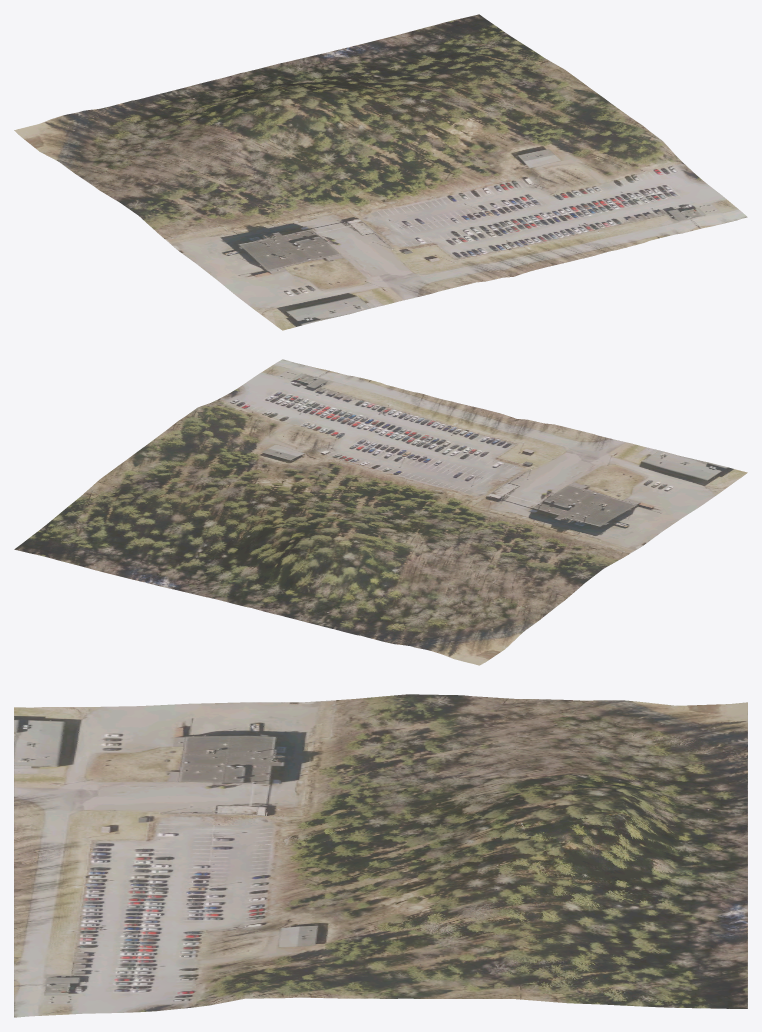
File: CM_Terrain_24493530_6815698.fbx
3 renders of one model, top to bottom at view 1: azimuth 30°, elevation 25°; view 2: azimuth 150°, elevation 25°; view 3: azimuth 270°, elevation 25°, orthographic. The views are drawn at different scales.
Parts seen in each view (by area): view 1: CM_Terrain_24493530_6815698_LOD0; view 2: CM_Terrain_24493530_6815698_LOD0; view 3: CM_Terrain_24493530_6815698_LOD0.
Part boxes in pixels (box(x1,y1,x2,y2)): CM_Terrain_24493530_6815698_LOD0: box(14, 14, 747, 330); CM_Terrain_24493530_6815698_LOD0: box(14, 359, 747, 665); CM_Terrain_24493530_6815698_LOD0: box(14, 694, 747, 1017).
Size of what is drawn, in the model's own units: 205 by 14.4 by 205.
